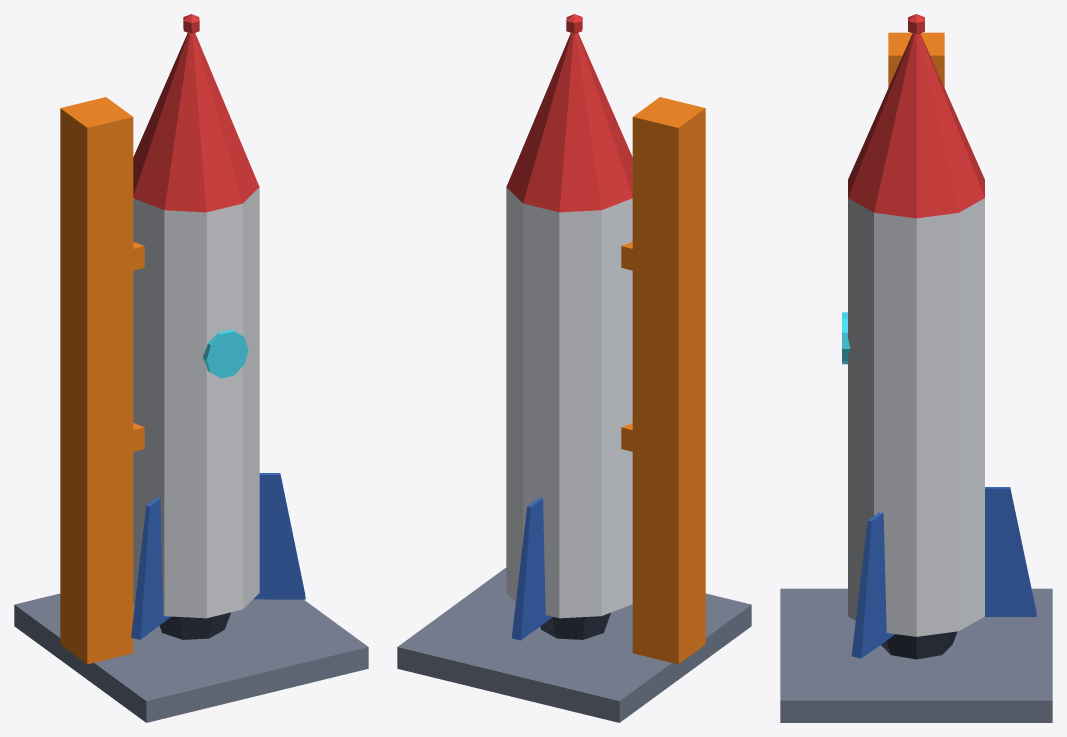
File: env_r9_mini_rocket.glb
3 renders of one model, left to right at view 1: azimuth 30°, elevation 25°; view 2: azimuth 150°, elevation 25°; view 3: azimuth 270°, elevation 25°, orthographic. The views are drawn at different scales.
Visible parts, largest first — view 1: env_r9_mini_rocket; view 2: env_r9_mini_rocket; view 3: env_r9_mini_rocket.
Part boxes in pixels (x1,y1,x2,y2): env_r9_mini_rocket: (14,14,368,722); env_r9_mini_rocket: (397,14,751,722); env_r9_mini_rocket: (780,14,1052,722).
Bounding box in the file's own units: 3.4 × 9 × 3.4.
Materials: 1 (1 with a texture image).
